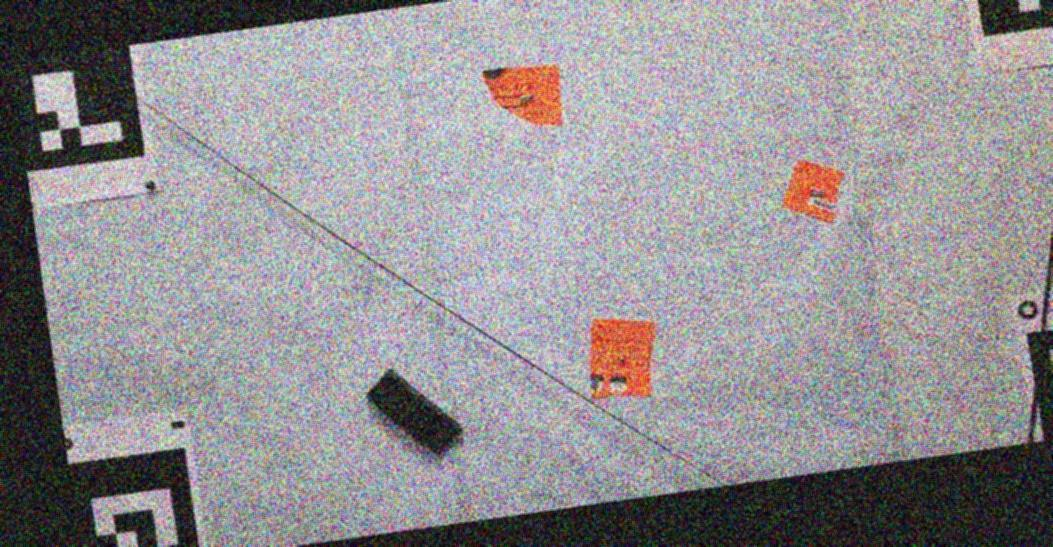obstacle: (366, 367, 464, 459), (588, 320, 653, 400), (480, 66, 563, 128), (781, 158, 844, 223)
